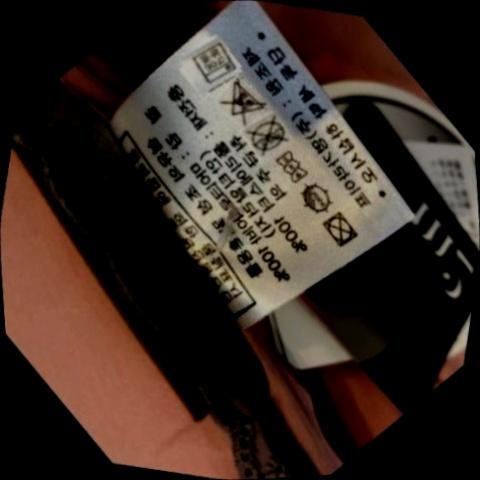30C: (178, 31, 248, 96)
DN_dry_clean: (232, 107, 299, 166)
DN_tumble_dry: (313, 203, 365, 255)
dry_flat_in_shade: (286, 168, 346, 223)
non_chlorine_bleach: (209, 71, 275, 133)
wring: (261, 139, 320, 197)
